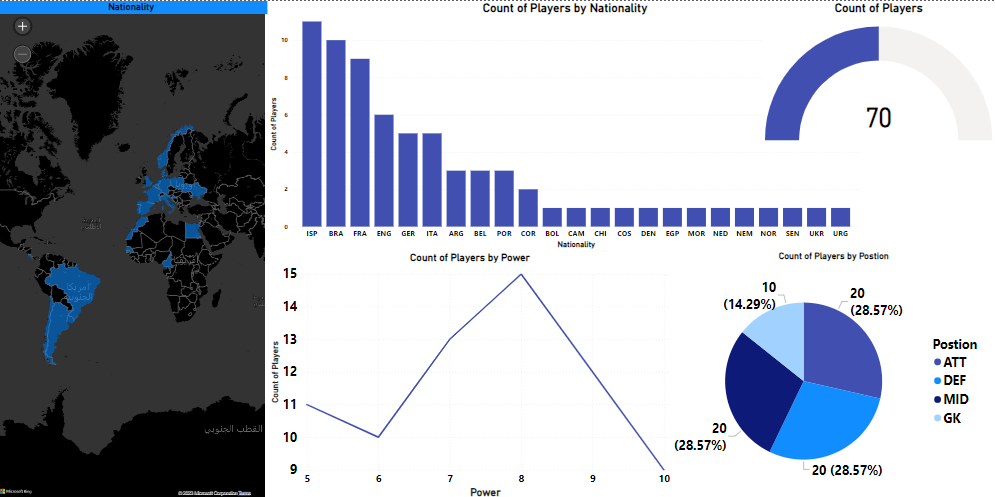

The dashboard page shown, as its layout file describes it:
{"tool":"powerbi","page":{"name":"Page 1","canvas":[2000,1000],"ordinal":0},"visuals":[{"type":"columnChart","title":"Count of Players by Nationality","fields":{"Category":["Table1.Nationality"],"Y":["CountNonNull(Table1.Name)"]},"box":[545,0,1190,500],"z":0},{"type":"gauge","title":"Count of Players","fields":{"Y":["CountNonNull(Table1.Name)"]},"box":[1535,0,465,302.5],"z":1000},{"type":"pieChart","title":"Count of Players by Postion","fields":{"Category":["Table1.Postion"],"Y":["CountNonNull(Table1.Name)"]},"box":[1355,500,645,500],"z":2000},{"type":"lineChart","fields":{"Category":["Table1.Power"],"Y":["CountNonNull(Table1.Name)"]},"box":[545,500,810,500],"z":3000},{"type":"filledMap","fields":{"Category":["Table3.Nationality"]},"box":[0,0,545,1000],"z":3001}]}

Visuals, with their boxes in screenshot pixels (x1, y1, x2, y2), scaled from the page's 2000x1000 canvas onto the 995x497 screenshot:
"Count of Players by Nationality" columnChart: crop(271, 0, 863, 248)
"Count of Players" gauge: crop(764, 0, 994, 150)
"Count of Players by Postion" pieChart: crop(674, 248, 994, 496)
lineChart - Table1.Power x CountNonNull(Table1.Name): crop(271, 248, 674, 496)
filledMap - Table3.Nationality: crop(0, 0, 271, 496)
